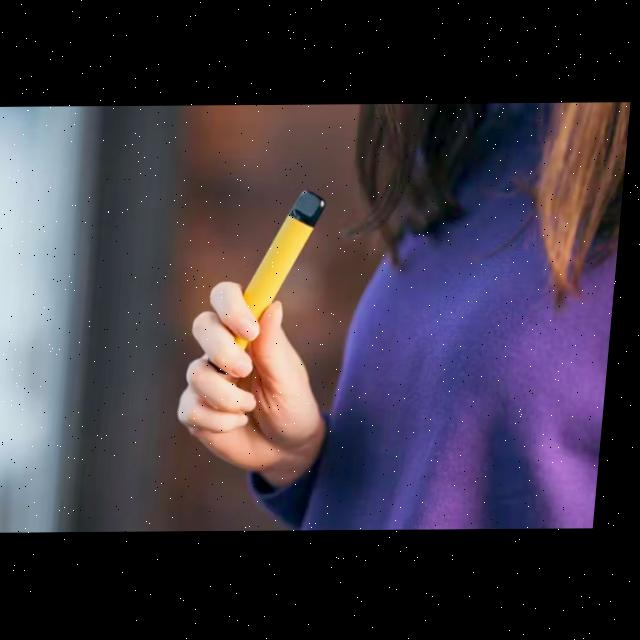vape: (231, 187, 333, 353)
